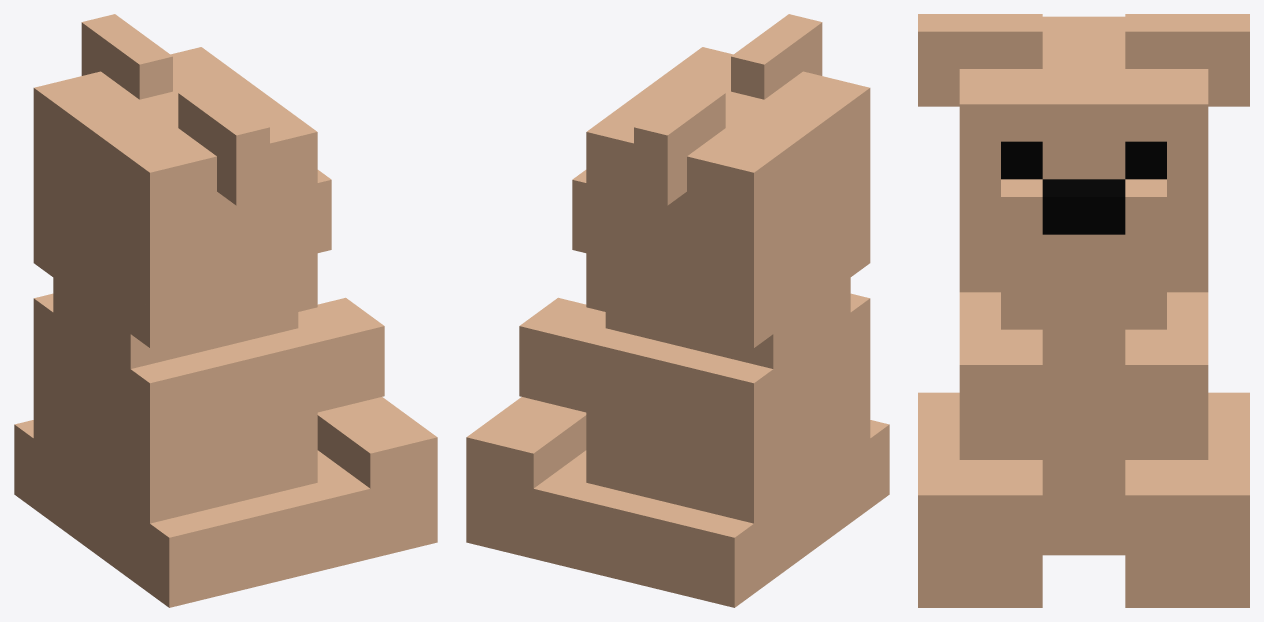
Rendered from Bear.gltf.
3 renders of one model, left to right at view 1: azimuth 30°, elevation 25°; view 2: azimuth 150°, elevation 25°; view 3: azimuth 270°, elevation 25°, orthographic. The views are drawn at different scales.
Parts seen in each view (by area): view 1: unnamed_mesh1; view 2: unnamed_mesh1; view 3: unnamed_mesh1.
Boxes of the visible parts, x1,y1,x2,y2 form: unnamed_mesh1: [14, 14, 437, 607]; unnamed_mesh1: [466, 14, 889, 607]; unnamed_mesh1: [918, 14, 1249, 607].
Size of the model in its own units: 8 by 13 by 8.
Materials: 1 (1 with a texture image).
